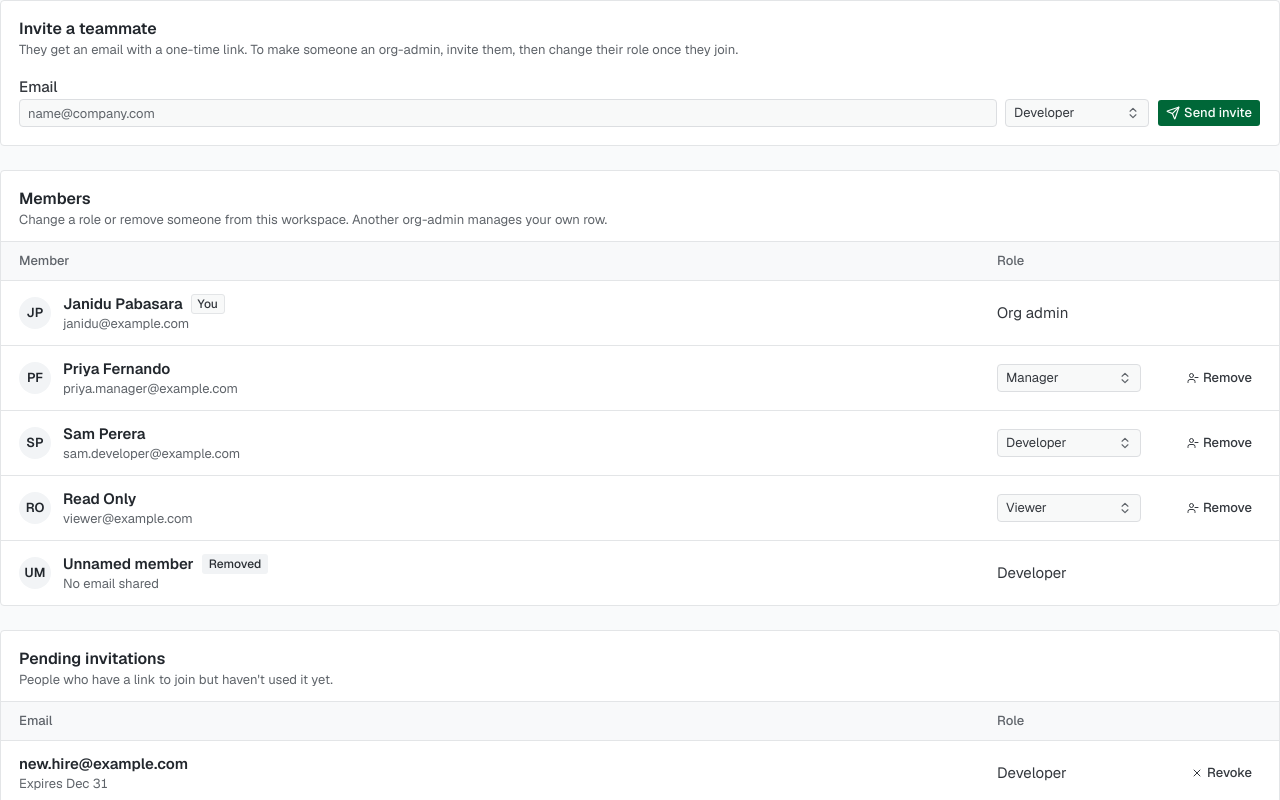
revoking removes the pending invitation
Step 1. Click the button with aria-label "Revoke invitation to new.hire@example.com" → click(1222, 773), box [1182,761,1261,785]
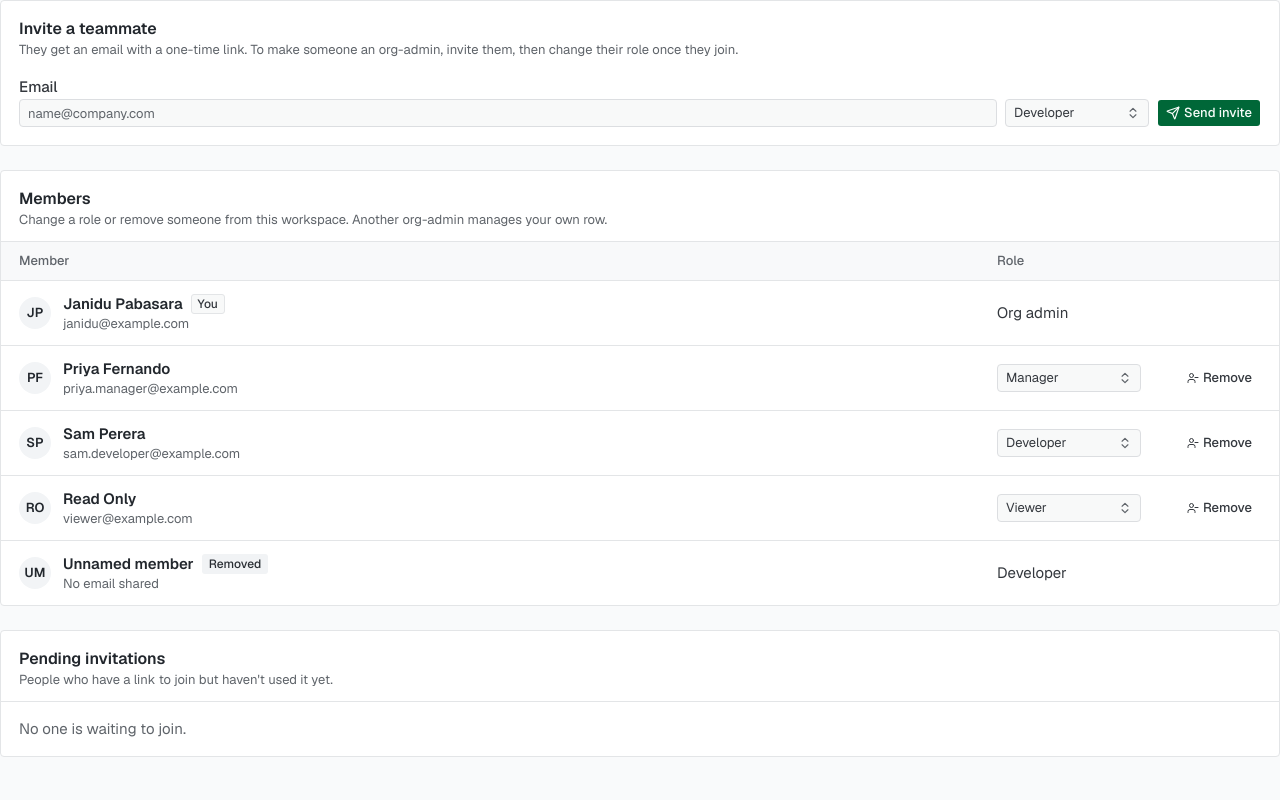
Check: the text "new.hire@example.com" is gone
Check: the text "No one is waiting to join." is shown, box [1,701,1279,756]
